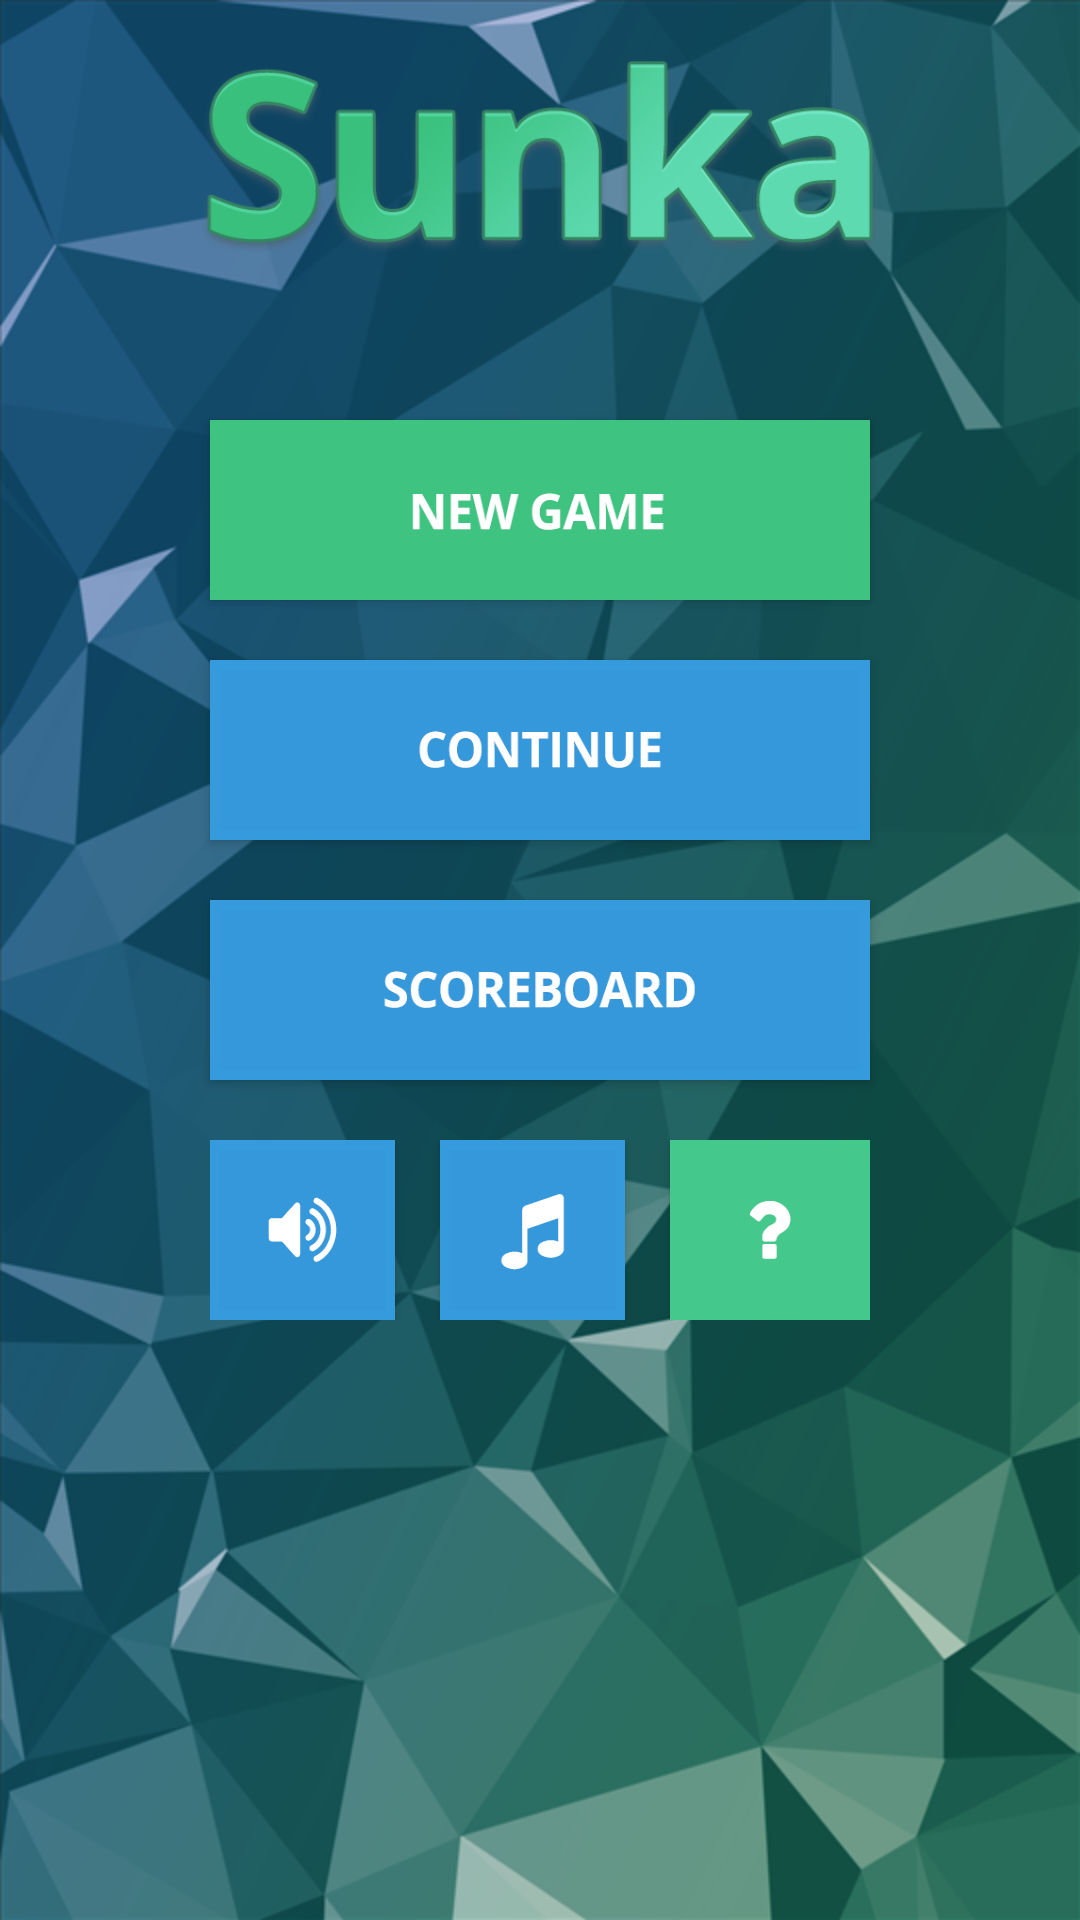

Point at icon controls on the screen. Image size 1080*1920, points as (x,y).
rules: (770,1230)
